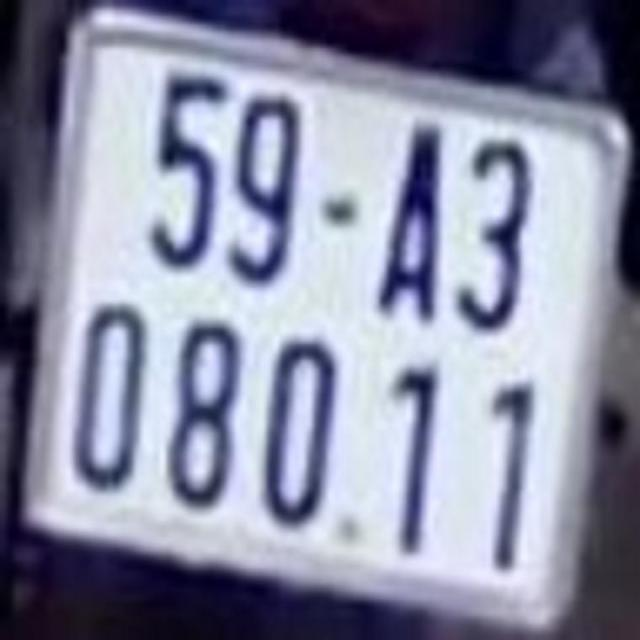0: (69, 284, 151, 498), (258, 306, 336, 525)
1: (380, 339, 448, 551), (480, 362, 548, 573)
3: (458, 115, 535, 335)
5: (144, 61, 219, 276)
8: (166, 298, 245, 508)
9: (226, 75, 308, 288)
A: (373, 103, 447, 320)
